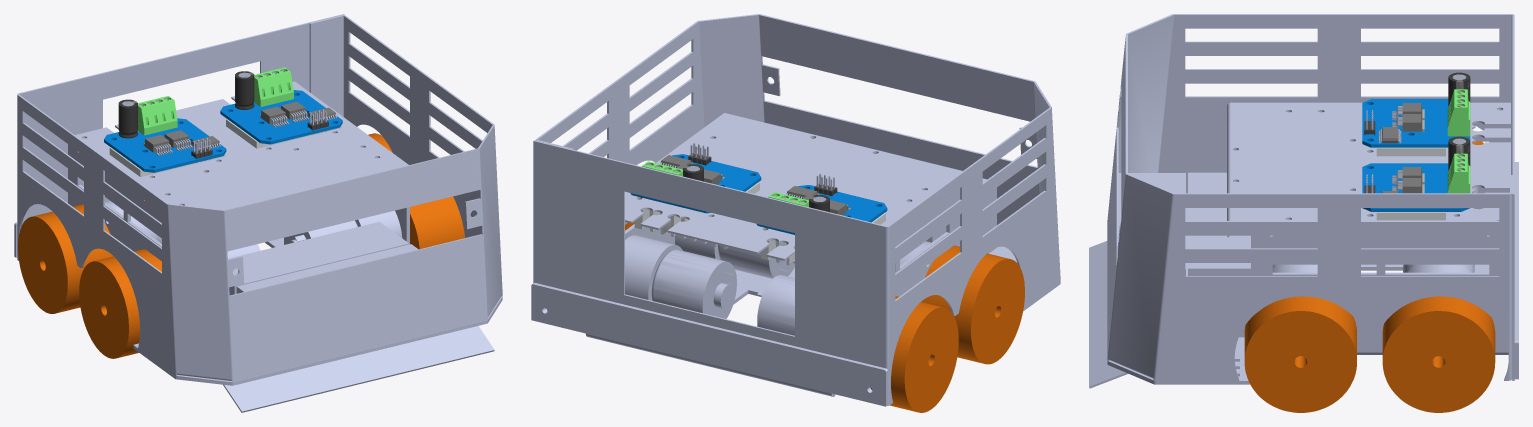
The model's file is sumo-2024-preview.glb.
3 renders of one model, left to right at view 1: azimuth 30°, elevation 25°; view 2: azimuth 150°, elevation 25°; view 3: azimuth 270°, elevation 25°, orthographic. The views are drawn at different scales.
Parts seen in each view (by area): view 1: NAUO1; view 2: NAUO1; view 3: NAUO1.
Part boxes in pixels (bbox=[...]): NAUO1: bbox=[14, 14, 502, 412]; NAUO1: bbox=[531, 14, 1060, 412]; NAUO1: bbox=[1089, 14, 1518, 412].
Size of the model in its own units: 0.2051 by 0.1096 by 0.1985.
1 material, 1 textured.
